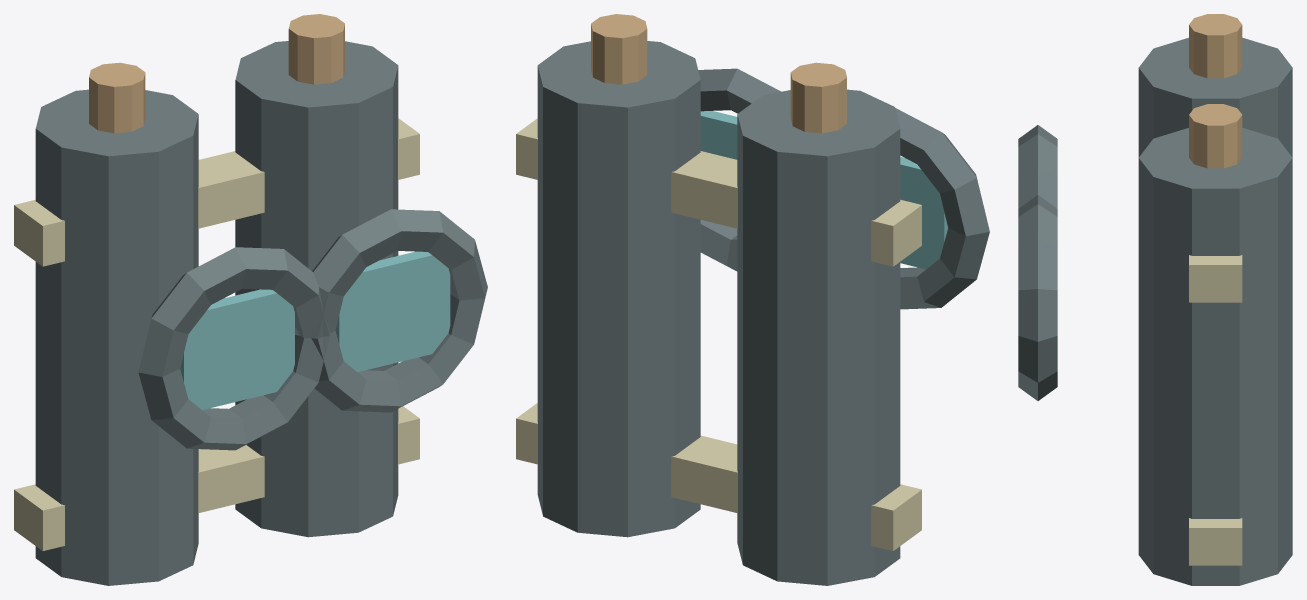
File: campaign_dive_kit.glb
The picture shows the model from 3 angles, left to right: view 1: azimuth 30°, elevation 25°; view 2: azimuth 150°, elevation 25°; view 3: azimuth 270°, elevation 25°; orthographic projection. The views are drawn at different scales.
Parts seen in each view (by area): view 1: campaign_dive_kit; view 2: campaign_dive_kit; view 3: campaign_dive_kit.
Boxes of the visible parts, box(x1,y1,x2,y2) form: campaign_dive_kit: box(14, 14, 487, 585); campaign_dive_kit: box(516, 14, 989, 585); campaign_dive_kit: box(1018, 14, 1292, 585).
Bounding box in the file's own units: 0.68 × 0.82 × 0.4633.
